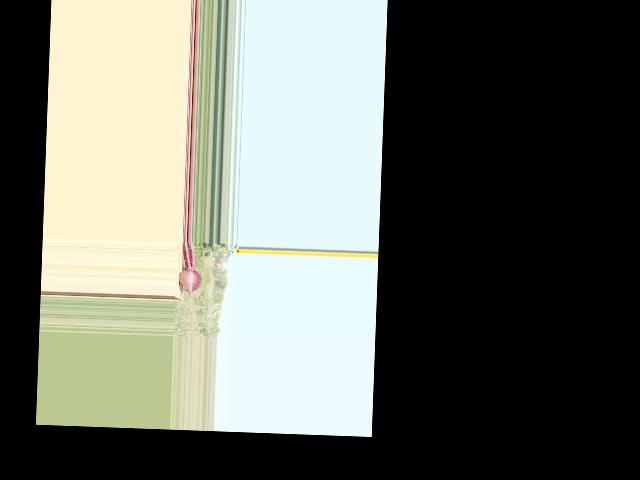beet: (176, 240, 202, 334)
